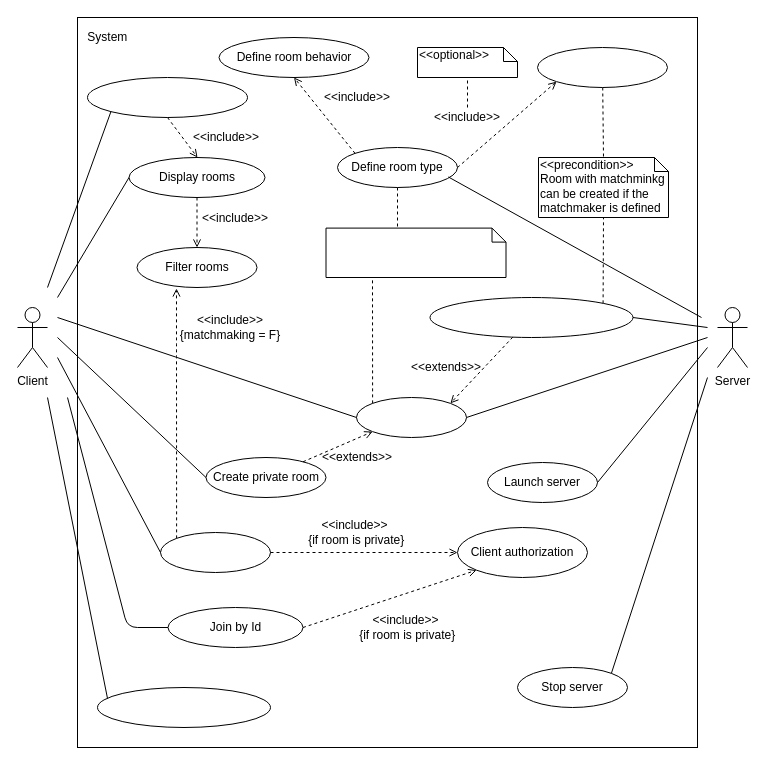
This 767x765 diagram has some shape labels left out. Here are the shapes that lost their labels. From the top down, the centre of each, then its label:
(x=602, y=67): Define matchmaking
(x=167, y=97): Display room properties
(x=415, y=252): <<precondition>> When creating a room, the room type must already be defined
(x=531, y=317): Create room with matchmaking
(x=411, y=417): Create public room
(x=215, y=552): Join room
(x=183, y=707): Reconnect
